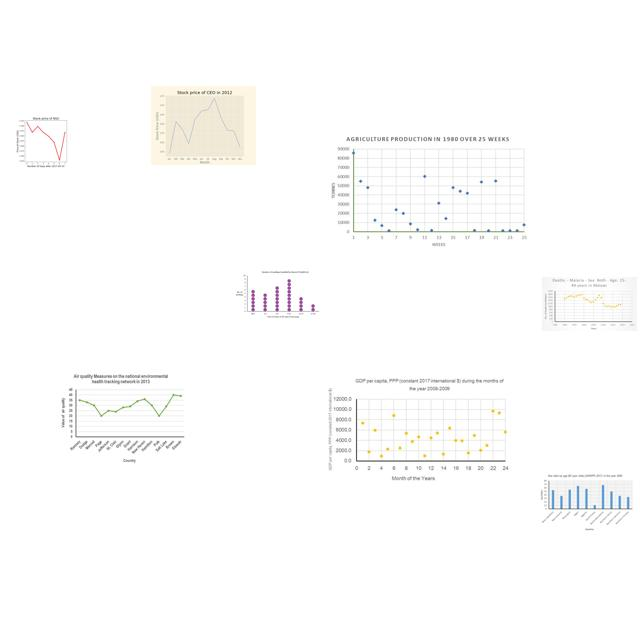Graph: (328, 134, 528, 248), (325, 375, 511, 483), (56, 372, 187, 464), (151, 86, 256, 165), (537, 473, 634, 531), (542, 277, 637, 331), (233, 269, 321, 320), (9, 114, 81, 168)
